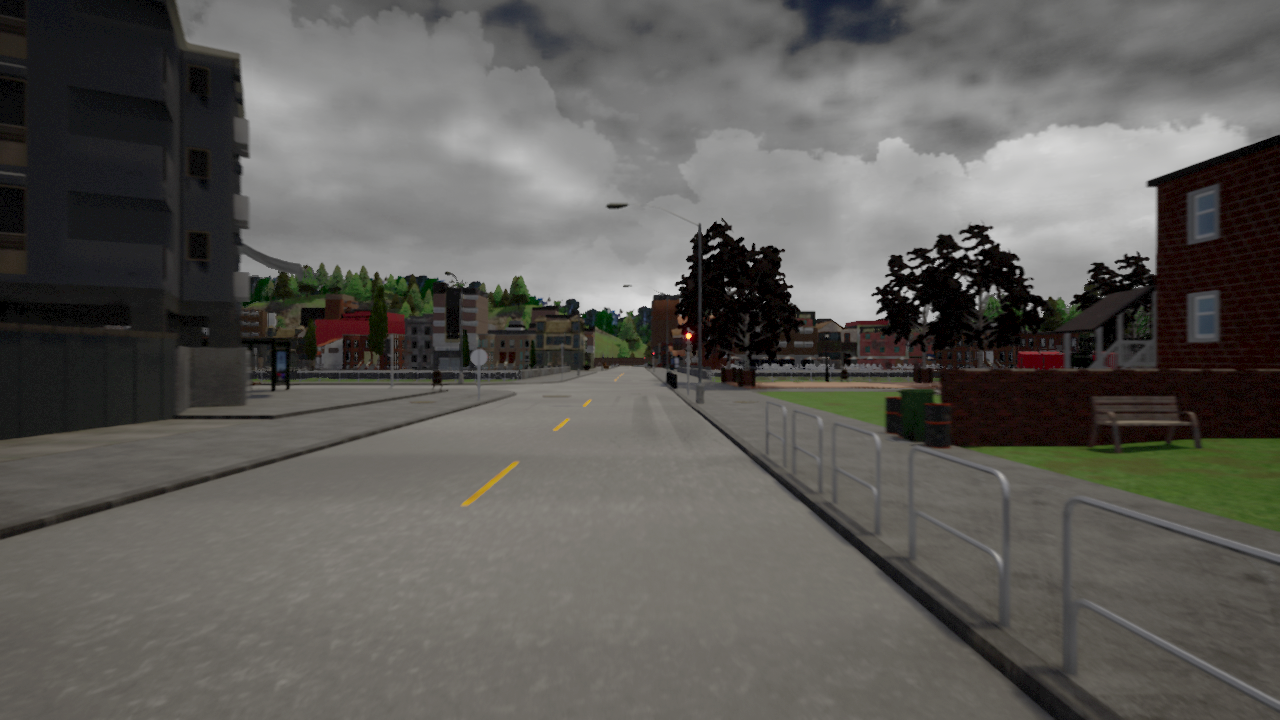red: (684, 331, 692, 353)
